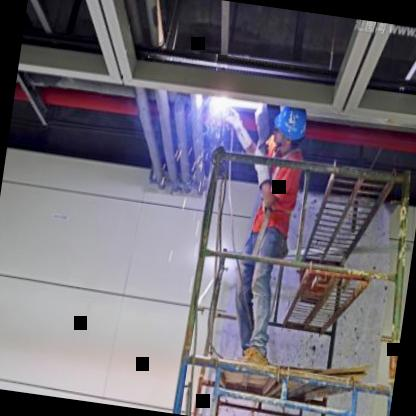helmet: (266, 105, 311, 150)
